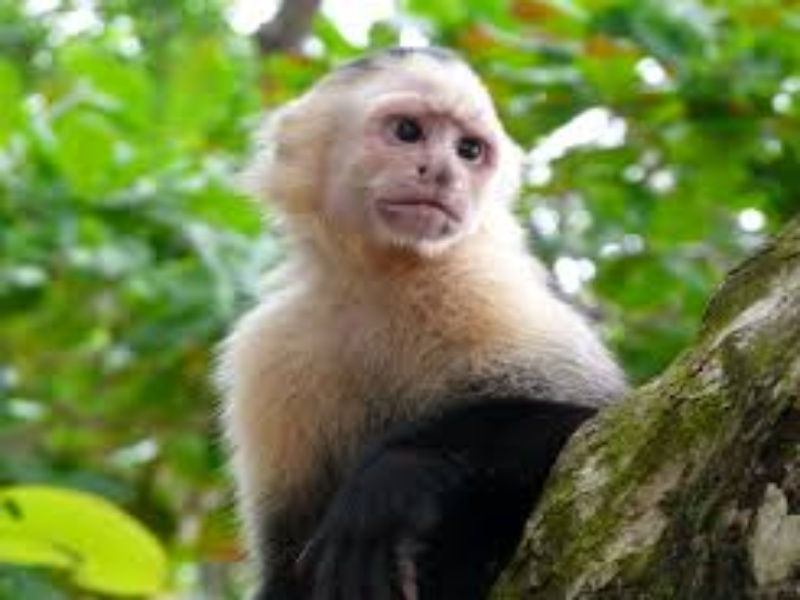monkey: (169, 31, 660, 569)
